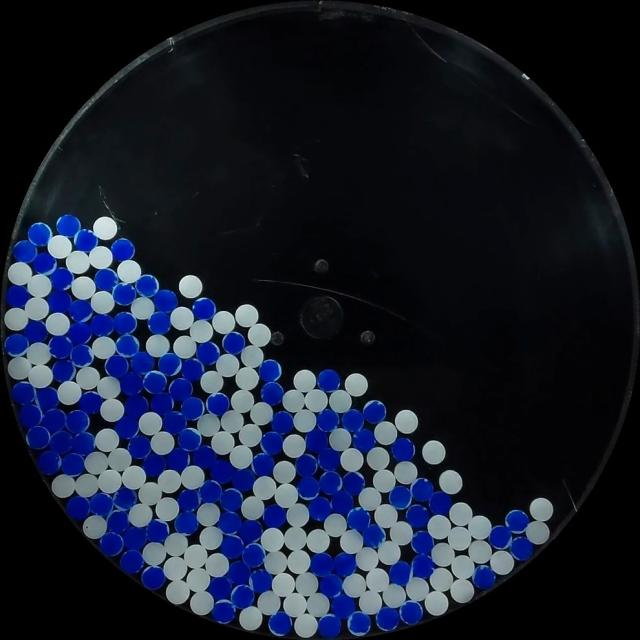pmmma-blanca: (452, 552, 482, 584), (464, 509, 496, 538), (225, 441, 254, 470), (336, 524, 364, 554), (385, 516, 413, 546), (134, 479, 165, 506), (79, 516, 109, 543), (25, 275, 56, 301), (166, 576, 193, 605), (195, 498, 221, 528), (357, 484, 382, 515), (287, 548, 314, 576), (190, 590, 218, 617), (120, 464, 147, 492), (382, 585, 411, 611), (306, 526, 330, 557), (370, 422, 405, 443), (450, 497, 477, 524), (236, 605, 263, 632), (46, 311, 74, 337), (403, 575, 431, 601), (492, 549, 520, 575), (450, 525, 478, 551), (162, 531, 188, 559), (284, 500, 309, 529), (105, 445, 134, 470), (418, 590, 448, 614), (292, 609, 316, 639), (200, 368, 227, 394), (339, 446, 366, 472), (367, 568, 394, 594), (371, 502, 398, 528), (273, 572, 300, 598), (234, 304, 262, 329), (248, 401, 276, 426), (368, 469, 396, 494), (229, 392, 258, 416), (293, 370, 322, 394), (448, 578, 477, 602), (283, 593, 313, 616), (69, 275, 95, 301), (178, 274, 204, 300), (270, 458, 296, 484), (252, 476, 278, 502), (391, 462, 417, 488), (262, 549, 288, 575), (126, 502, 152, 528), (243, 321, 270, 346), (274, 480, 299, 507), (160, 555, 187, 580), (339, 572, 366, 597), (24, 299, 52, 323), (422, 440, 446, 468), (204, 554, 232, 578), (432, 538, 455, 567), (113, 260, 143, 282), (4, 306, 29, 332), (190, 321, 217, 345), (438, 468, 465, 492), (304, 591, 328, 618), (181, 463, 205, 490), (212, 428, 236, 455), (86, 449, 110, 476), (217, 412, 245, 435), (89, 289, 114, 314), (198, 526, 223, 551), (172, 334, 198, 358), (92, 334, 116, 360), (100, 394, 126, 418), (367, 446, 391, 472), (327, 424, 353, 448), (282, 434, 308, 458), (426, 566, 452, 590), (375, 538, 399, 564), (294, 571, 320, 595), (290, 410, 317, 433), (27, 365, 52, 389), (302, 387, 326, 412), (395, 408, 419, 433), (284, 526, 308, 551), (184, 567, 208, 592), (358, 590, 382, 615), (146, 333, 172, 356), (260, 527, 283, 553), (356, 545, 379, 571), (431, 514, 454, 540), (242, 495, 264, 522), (97, 375, 121, 399), (94, 428, 118, 452), (75, 473, 99, 497), (92, 216, 117, 239), (64, 250, 87, 275), (184, 544, 207, 569), (48, 233, 70, 259), (86, 248, 112, 270), (146, 432, 172, 454), (530, 498, 552, 524), (233, 370, 260, 391), (213, 311, 237, 334), (138, 410, 162, 433), (323, 513, 346, 537), (56, 381, 82, 402), (76, 368, 102, 389), (327, 393, 354, 413), (7, 354, 30, 377), (282, 390, 305, 413), (170, 306, 194, 328), (239, 424, 263, 446), (258, 590, 280, 614), (55, 475, 77, 499), (27, 342, 50, 364), (215, 353, 239, 374), (526, 520, 546, 545), (161, 469, 181, 494), (131, 298, 153, 320), (156, 497, 178, 519), (7, 262, 31, 282), (100, 469, 120, 493), (242, 346, 264, 367), (468, 541, 489, 563), (144, 542, 164, 564), (347, 374, 366, 397), (198, 414, 218, 435)
